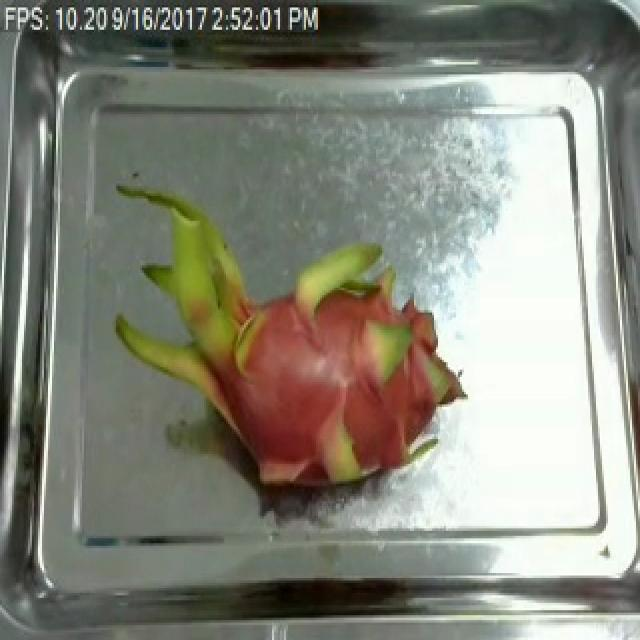fruit: (104, 176, 468, 526)
